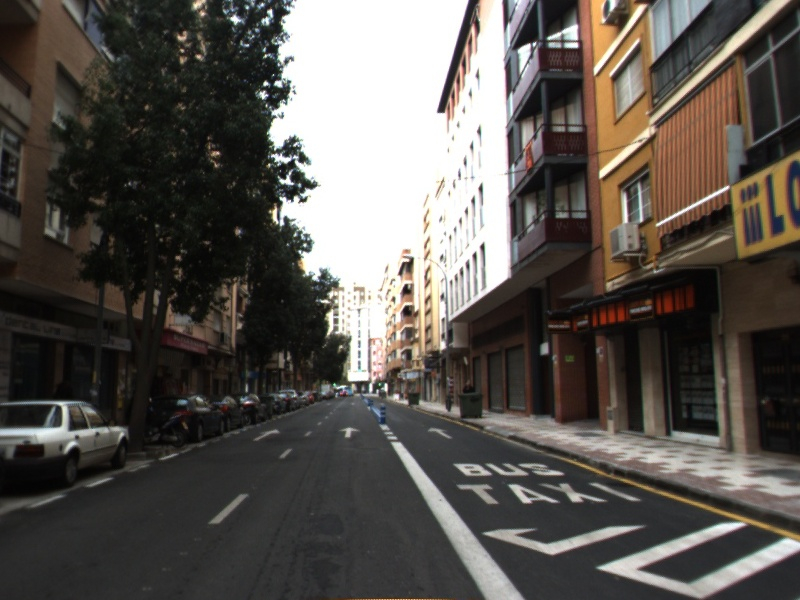STRAIGHT: (251, 427, 283, 443), (426, 425, 455, 441), (337, 425, 362, 439)
